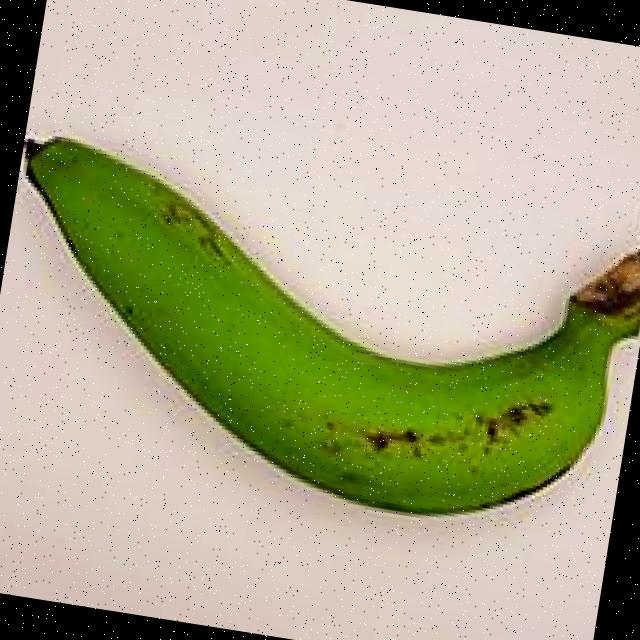Raw: (0, 82, 640, 561)
